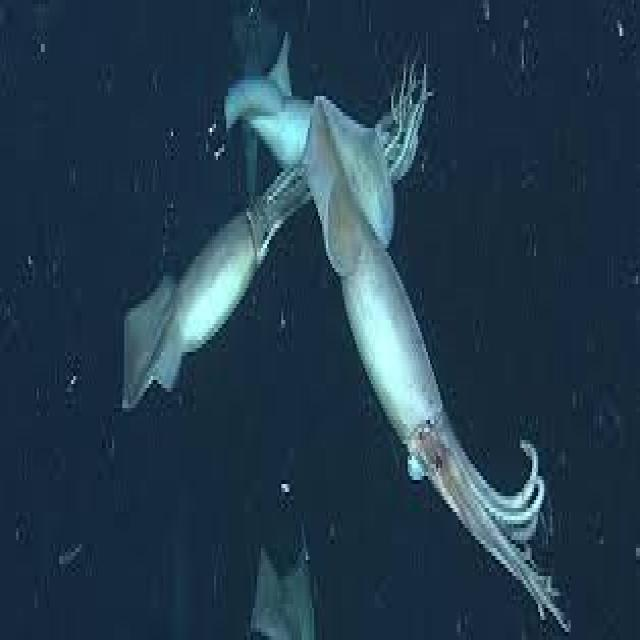squid: (304, 96, 558, 616), (122, 164, 306, 404), (224, 32, 308, 164)
